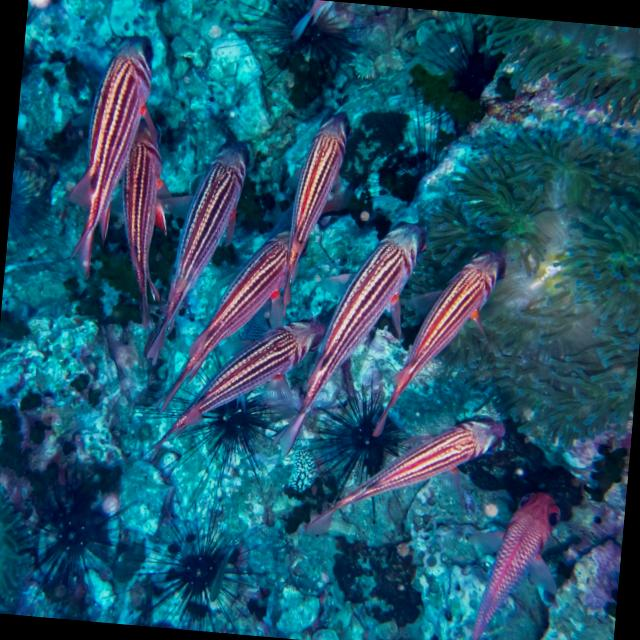Asker Baligi: (41, 28, 180, 290), (298, 393, 511, 557), (264, 94, 368, 307), (443, 480, 569, 640)
